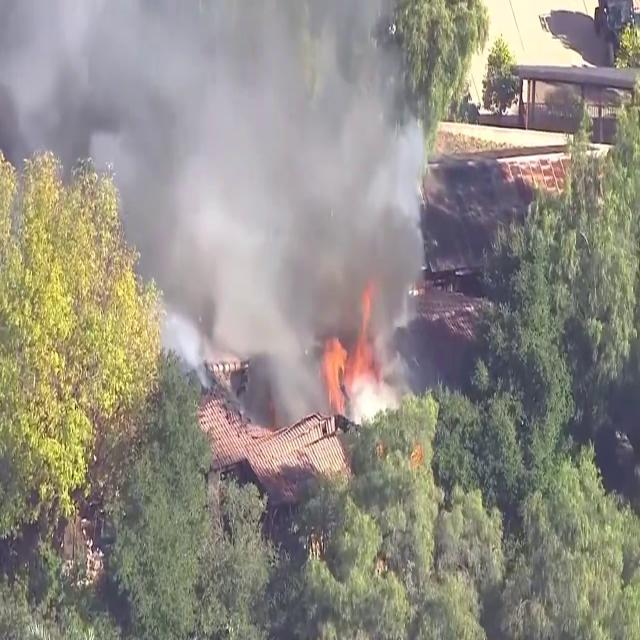Fire: (321, 326, 351, 418)
Smoke: (1, 0, 433, 411)
